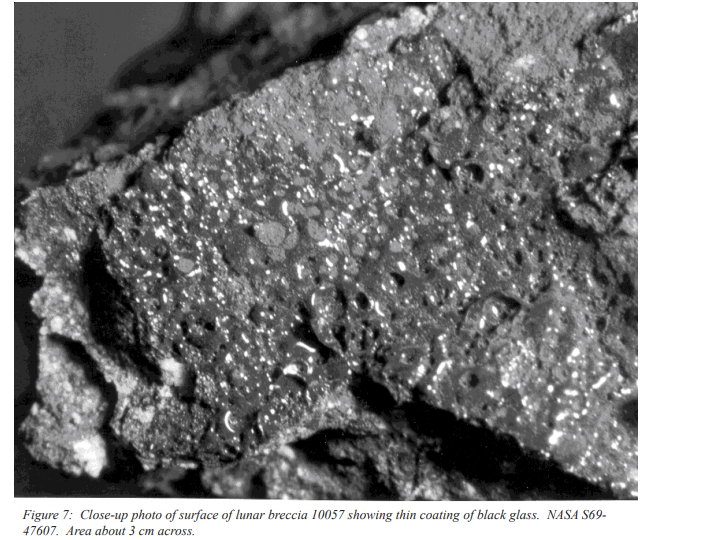Breccia: (23, 22, 642, 494), (246, 175, 597, 416), (445, 33, 611, 381)
